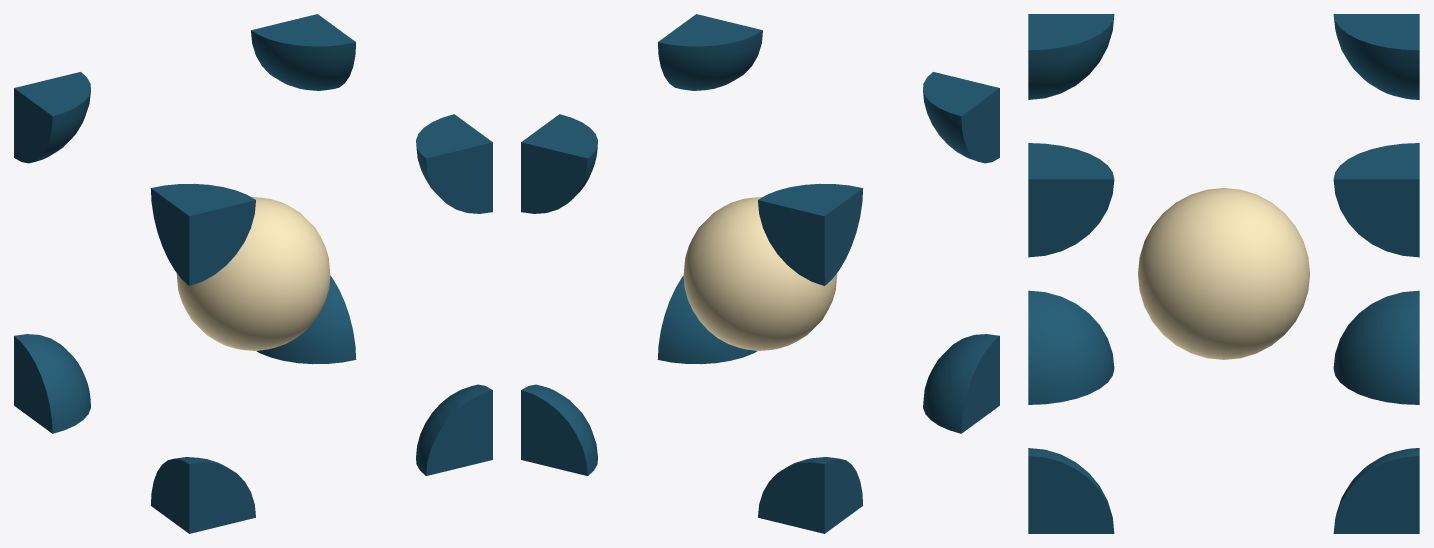
Rendered from jingbao1.gltf.
The picture shows the model from 3 angles, left to right: view 1: azimuth 30°, elevation 25°; view 2: azimuth 150°, elevation 25°; view 3: azimuth 270°, elevation 25°; orthographic projection. The views are drawn at different scales.
Visible parts, largest first — view 1: 1, 2; view 2: 1, 2; view 3: 1, 2.
Part boxes in pixels (<box>): 1: <box>14,14,492,533</box>; 2: <box>176,197,330,350</box>; 1: <box>521,14,999,533</box>; 2: <box>683,197,837,350</box>; 1: <box>1028,14,1419,533</box>; 2: <box>1138,188,1309,359</box>.
Bounding box in the file's own units: 50 × 50 × 50.
2 materials, 2 textured.
